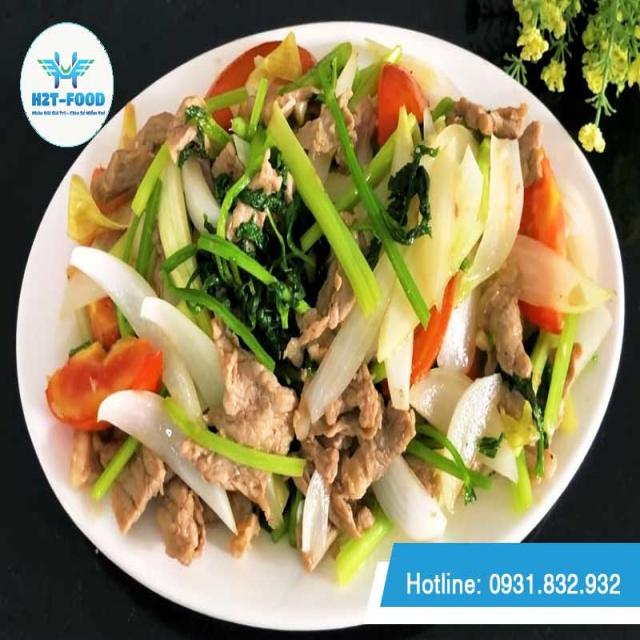ca kho: (46, 32, 608, 582)
